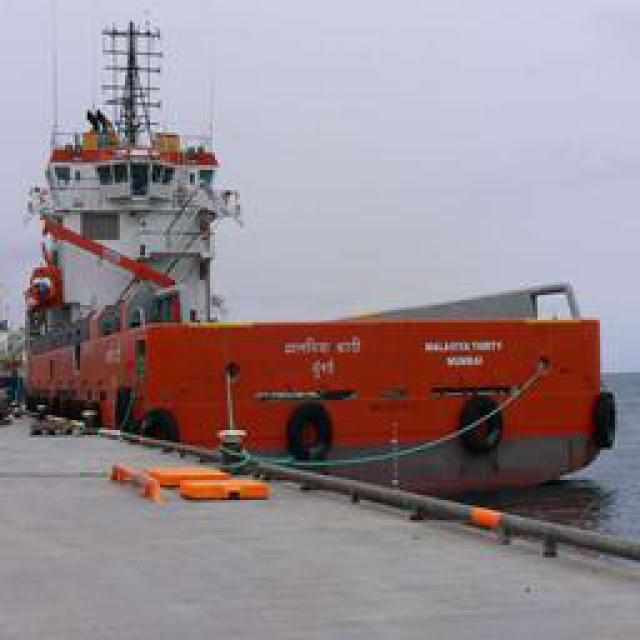Ship: (16, 132, 609, 475)
